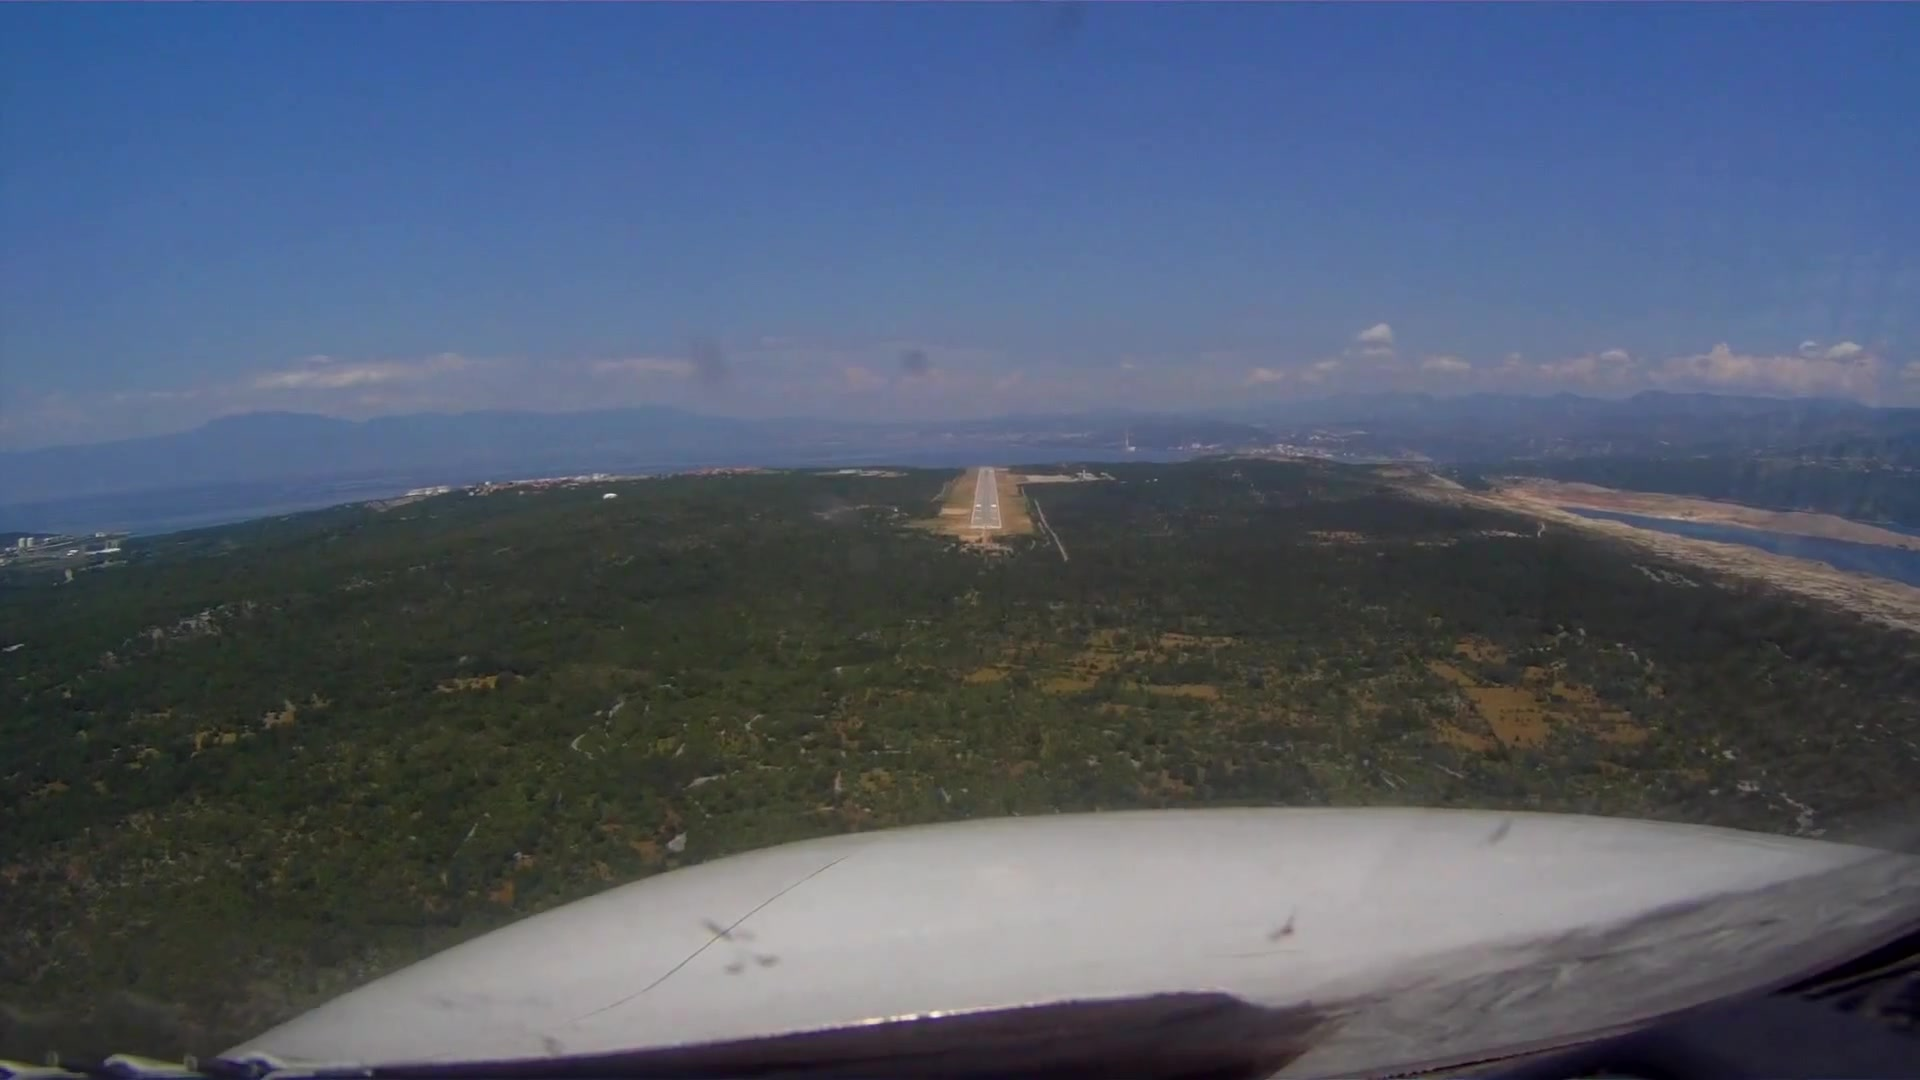runway: (969, 465, 1002, 530)
